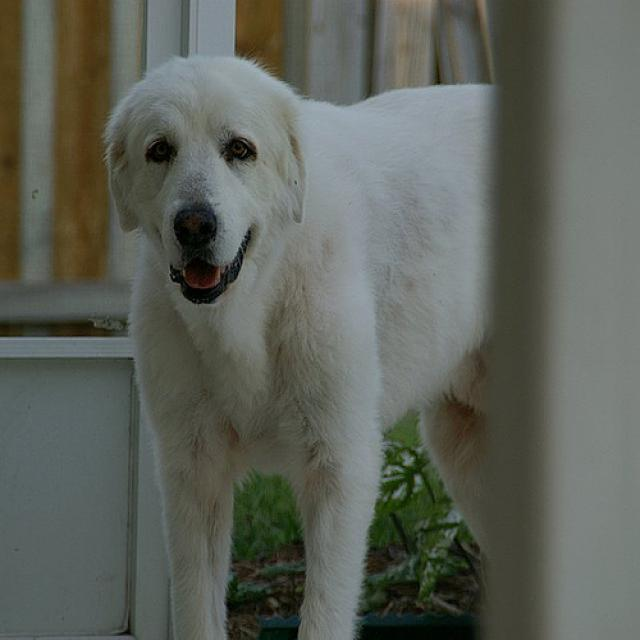dog-great_pyrenees: (95, 44, 497, 637)
